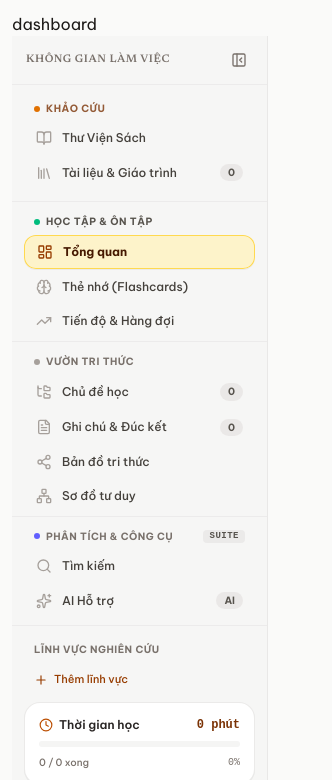
Test: Phase 7D / Commercial Reset: Information Architecture & Navigation › 2. Commercial Tools Navigation (AI Hỗ trợ & Thư Viện Sách) › 2.2. Nhấp vào Thư Viện Sách sẽ kích hoạt chuyển đổi tab sang library
The image size is (332, 780).
Click the button "Thư Viện Sách".
click(140, 138)  # box [24,122,255,154]
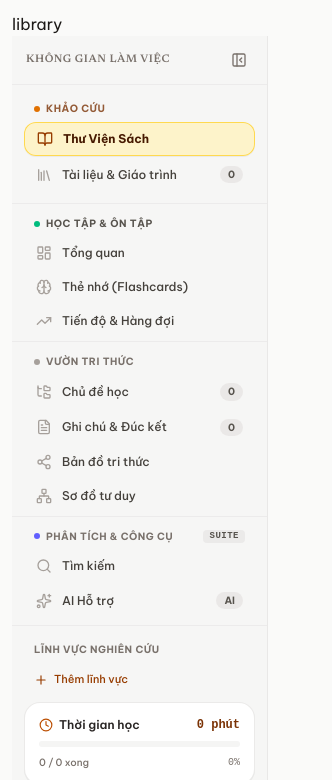
expect the text with test id "current-tab" reads "library": met, box [12,14,62,34]
